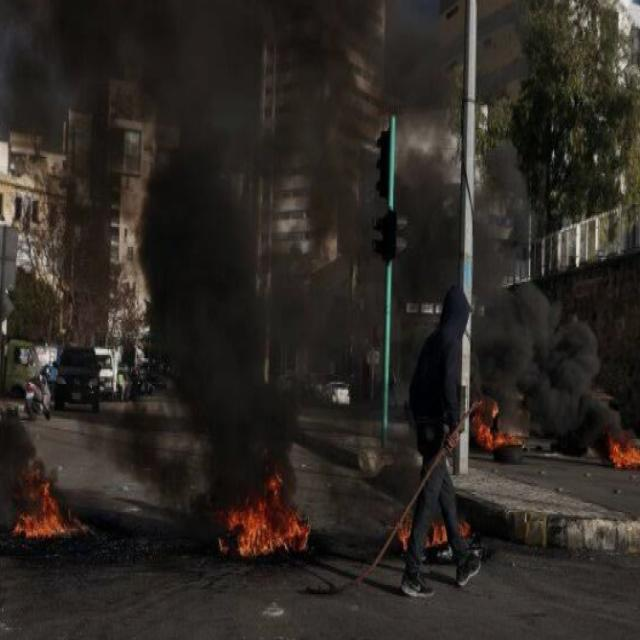fire: (227, 505, 309, 554), (12, 479, 65, 537), (473, 414, 515, 447)
